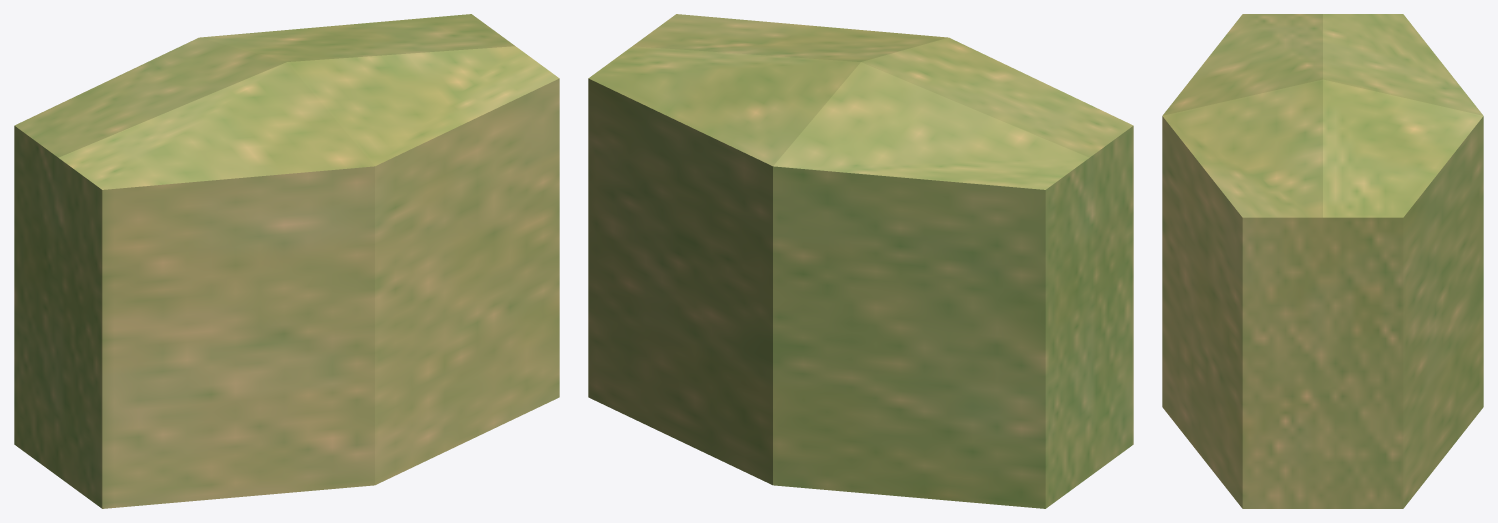
File: zombiehand.obj
The picture shows the model from 3 angles, left to right: view 1: azimuth 30°, elevation 25°; view 2: azimuth 150°, elevation 25°; view 3: azimuth 270°, elevation 25°; orthographic projection. The views are drawn at different scales.
Visible parts, largest first — view 1: Cube.001; view 2: Cube.001; view 3: Cube.001.
Part boxes in pixels (box(x1,y1,x2,y2)): Cube.001: box(14, 14, 559, 508); Cube.001: box(588, 14, 1133, 508); Cube.001: box(1162, 14, 1483, 508).
Size of the model in its own units: 1.2 by 1 by 0.8.
